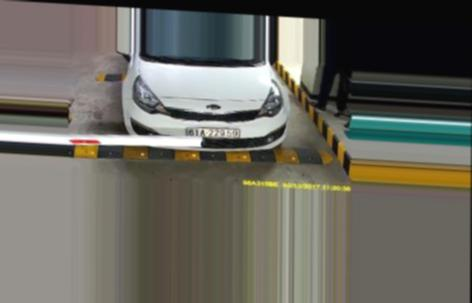License_Plate: (188, 125, 239, 141)
